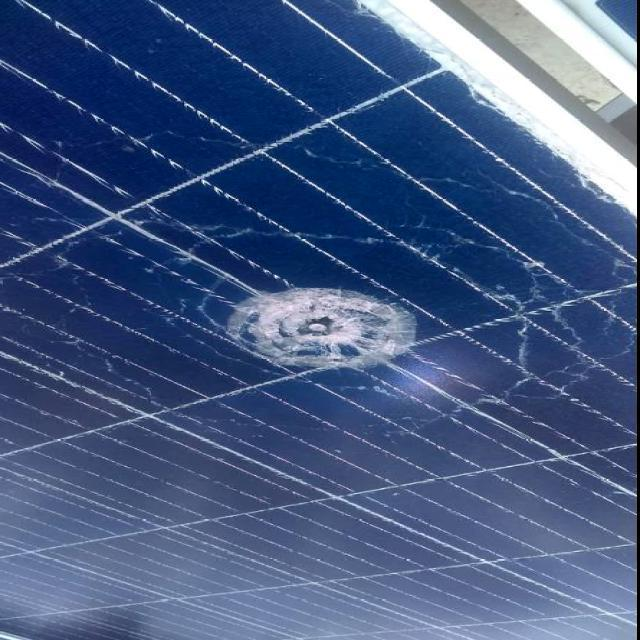cracked: (1, 0, 631, 634)
